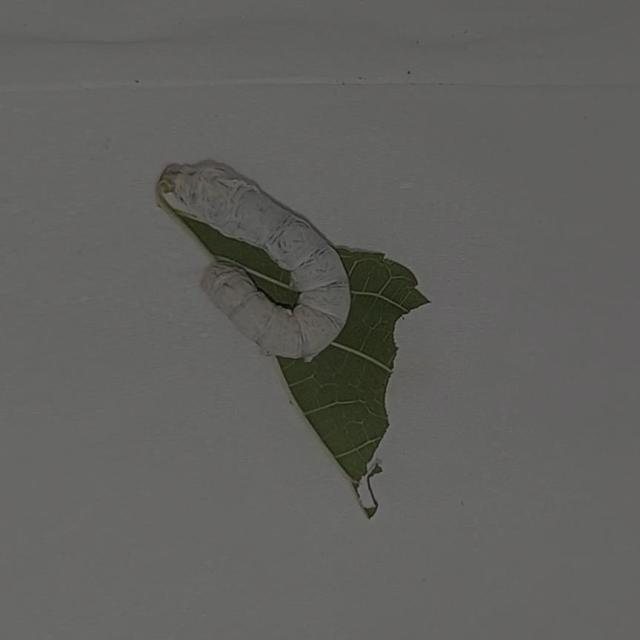Healthy: (141, 144, 362, 390)
